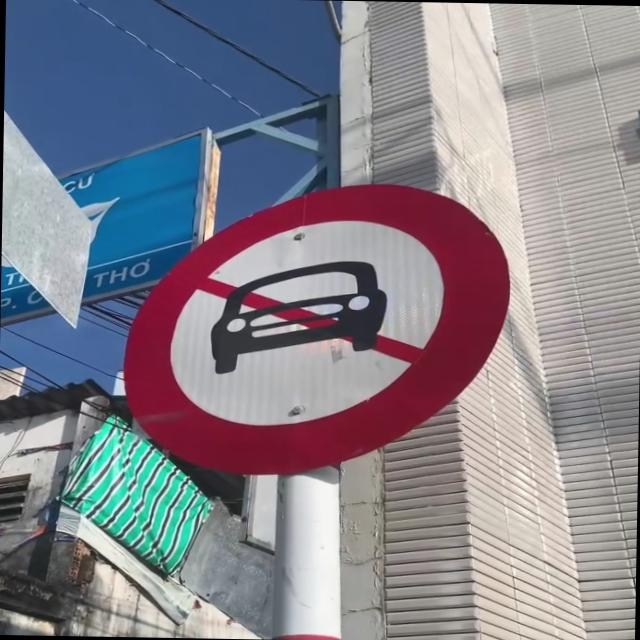Cam_O_To: (115, 178, 515, 480)
